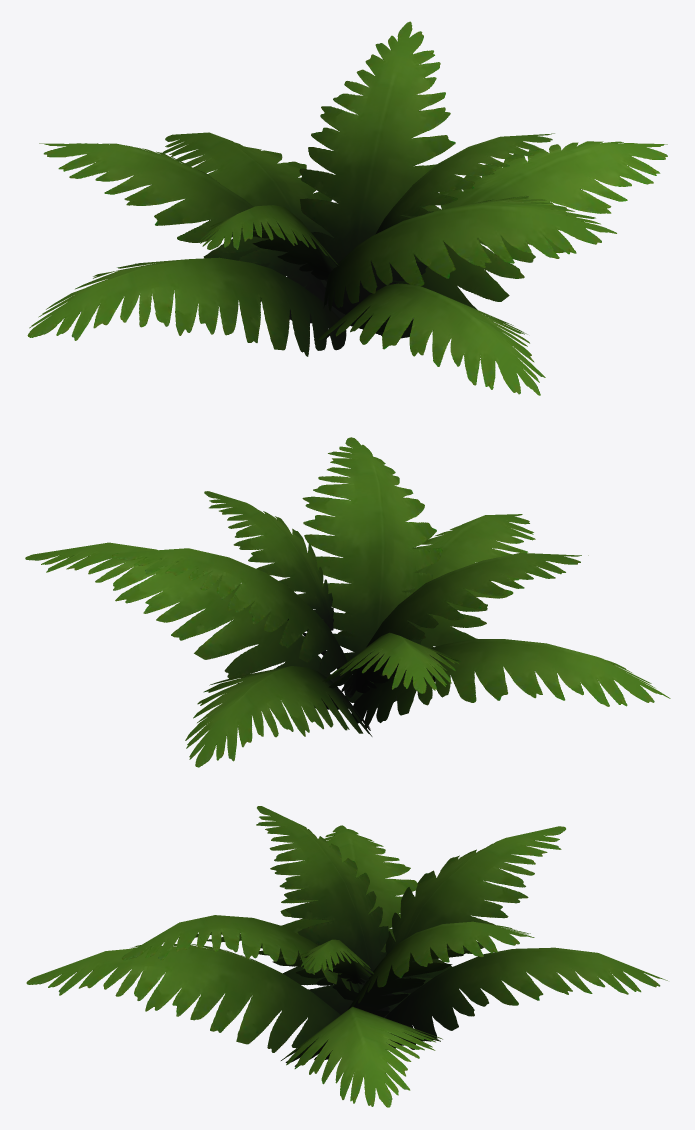
File: ormbunke.glb
The picture shows the model from 3 angles, top to bottom: view 1: azimuth 30°, elevation 25°; view 2: azimuth 150°, elevation 25°; view 3: azimuth 270°, elevation 25°; orthographic projection. The views are drawn at different scales.
Visible parts, largest first — view 1: Fern_1; view 2: Fern_1; view 3: Fern_1.
Boxes of the visible parts, left/top/right/bottom form: Fern_1: left=27, top=21, right=667, bottom=395; Fern_1: left=25, top=437, right=670, bottom=767; Fern_1: left=26, top=806, right=667, bottom=1107.
Size of the model in its own units: 2.83 by 0.8404 by 2.65.
1 material, 1 textured.
